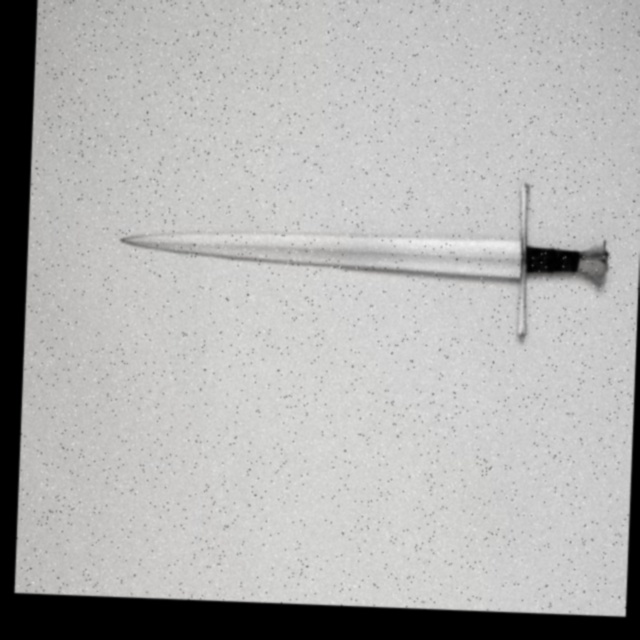Sharp-Object: (118, 215, 617, 309)
